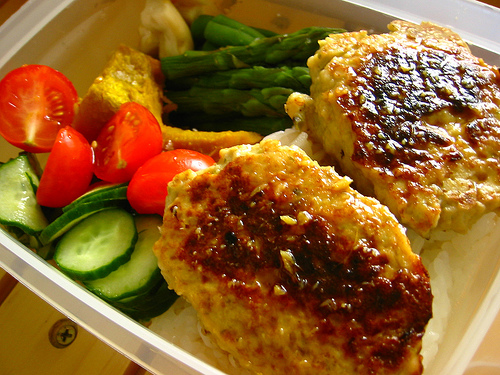cucumber: (85, 212, 164, 303), (51, 206, 137, 281), (46, 186, 128, 241), (0, 152, 47, 238)
